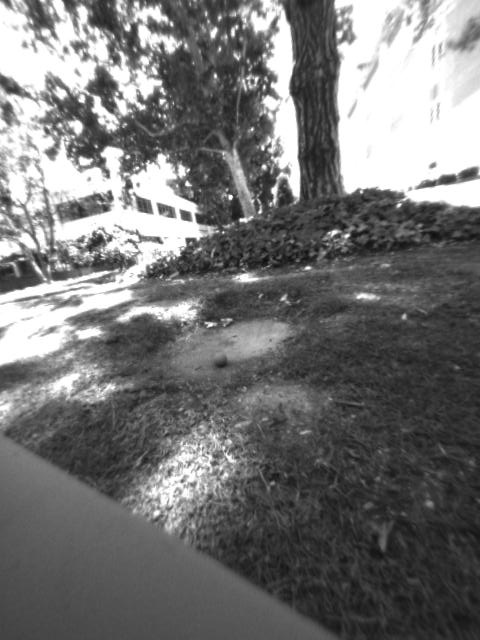dogtoy: (201, 343, 242, 377)
